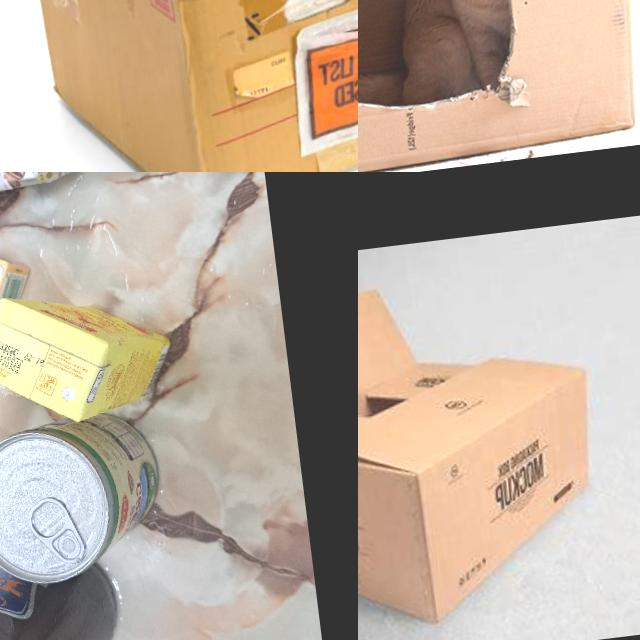aba de lata: (27, 492, 85, 566)
caixinha: (0, 275, 181, 433), (0, 222, 53, 481)
garrafa de vidro: (0, 546, 124, 640)
lata: (0, 404, 172, 589)
papelão: (358, 262, 614, 640), (0, 0, 358, 172), (358, 0, 640, 172)
